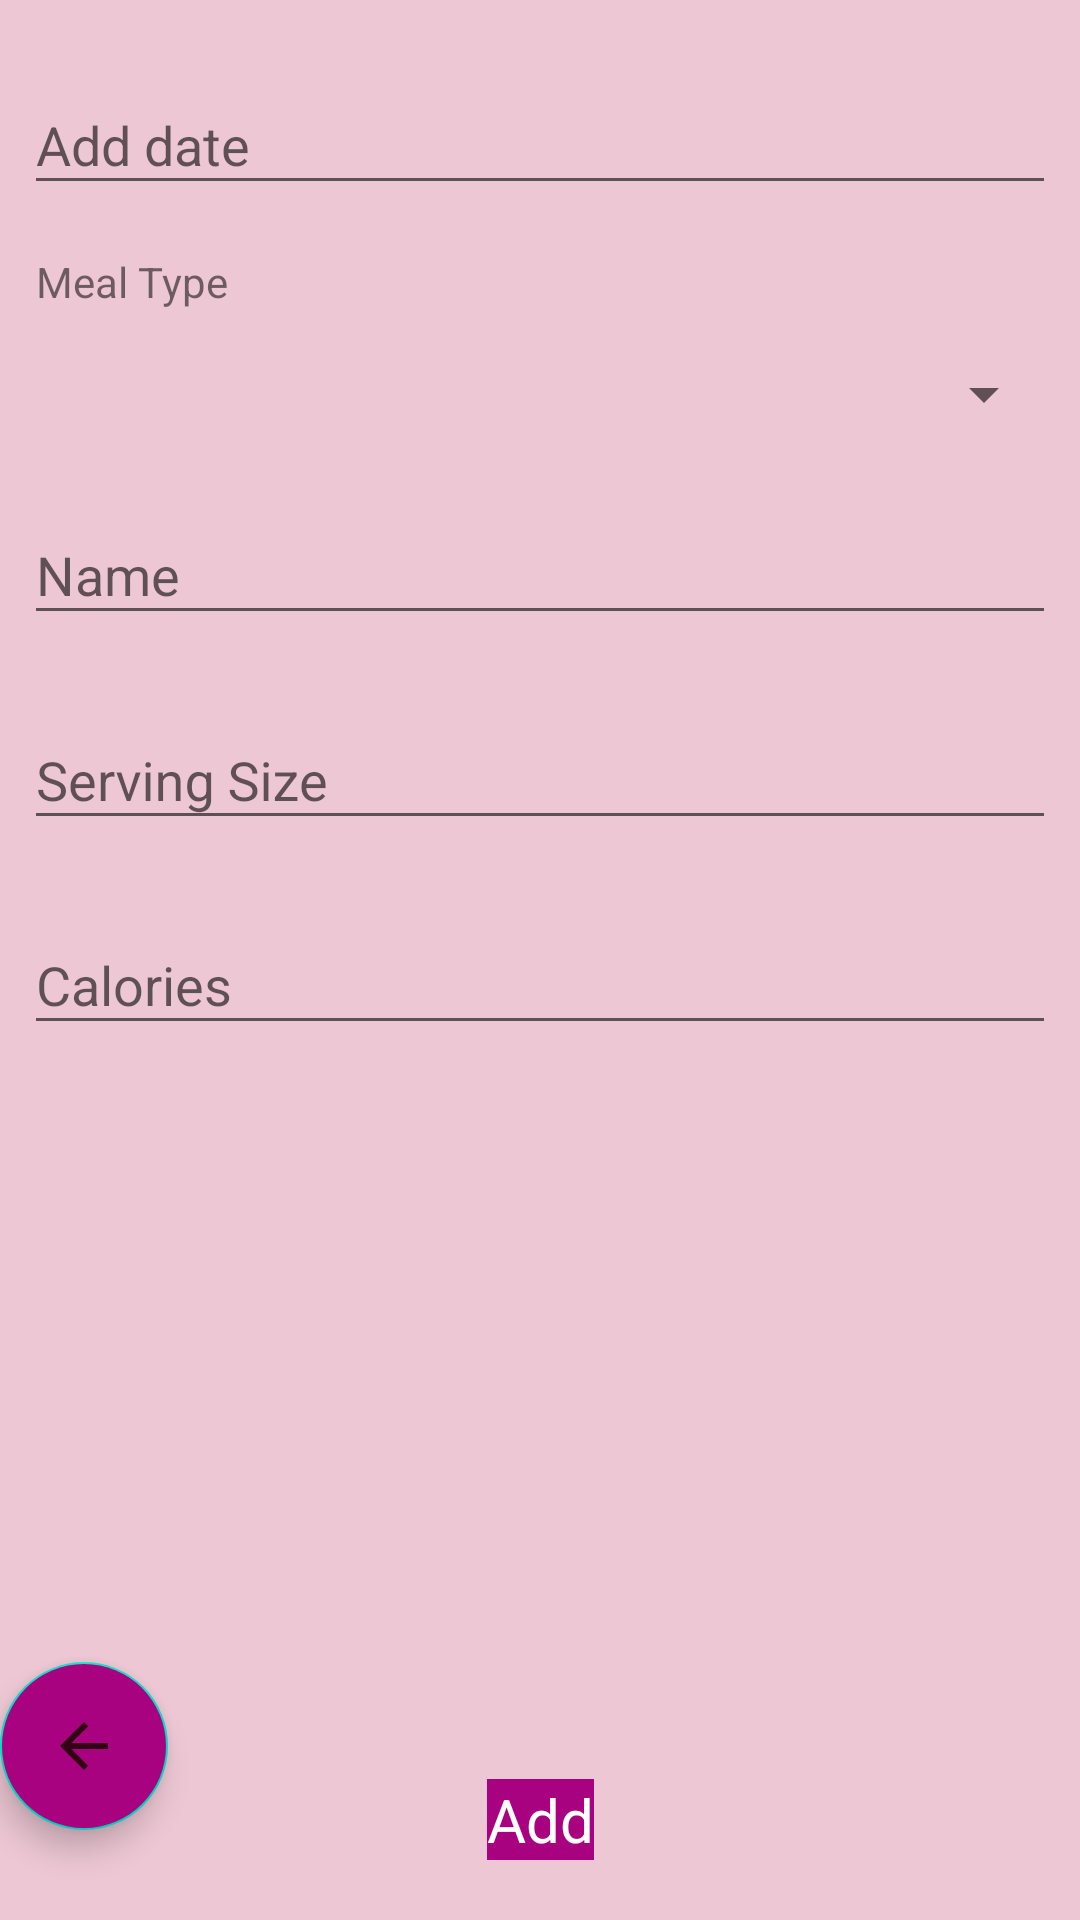

Icons on this 1080×1920 Android screen, each with the point to tap as (x=x, y=y):
backtohome: (x=84, y=1746)
